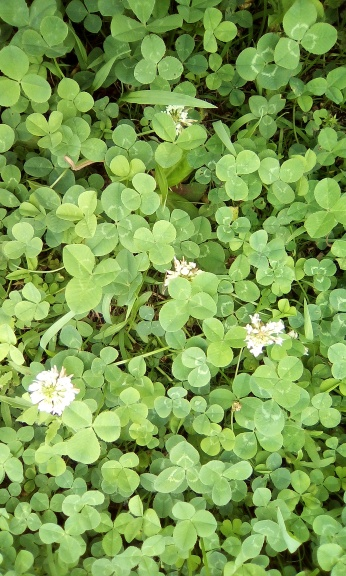4leaf: (158, 271, 218, 333)
